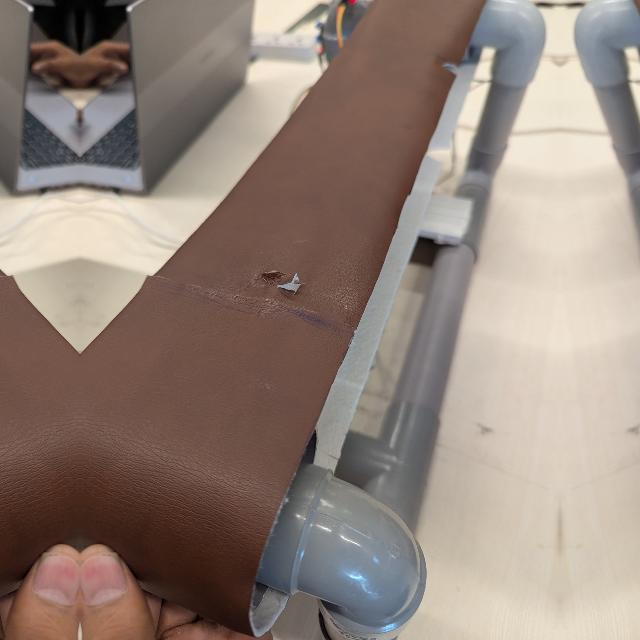joint_damage: (243, 264, 323, 309)
